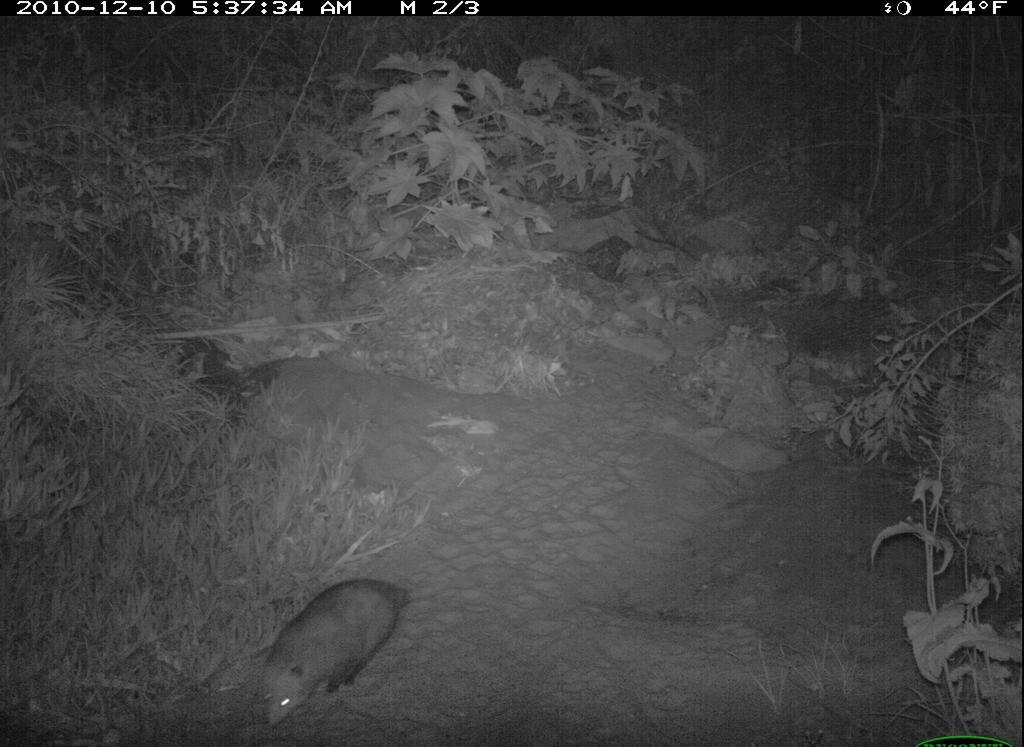opossum: (242, 568, 420, 733)
